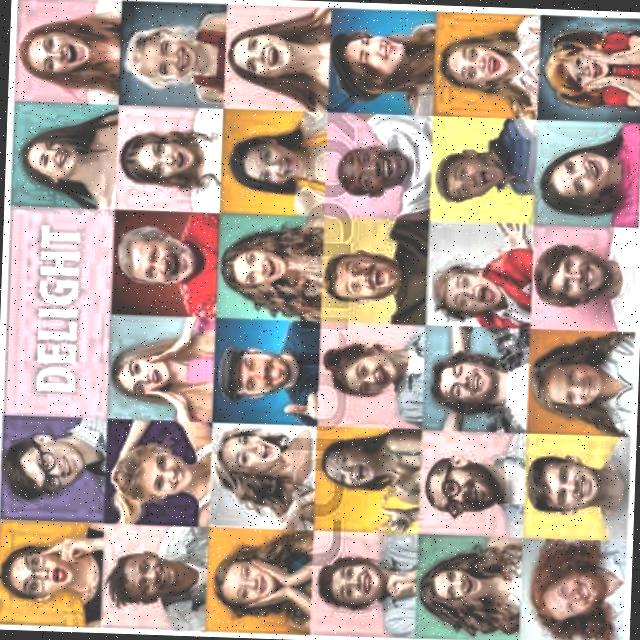happy: (97, 525, 208, 636), (113, 109, 225, 211), (0, 411, 103, 521), (8, 109, 120, 208), (103, 207, 215, 306), (436, 5, 538, 111), (122, 2, 226, 105), (520, 532, 613, 640), (110, 319, 214, 415), (343, 5, 431, 111), (106, 424, 207, 516), (223, 217, 315, 315), (545, 21, 640, 113), (312, 432, 401, 528), (318, 226, 405, 324), (313, 322, 400, 420), (436, 239, 510, 351), (323, 118, 404, 219), (230, 5, 313, 101), (311, 534, 389, 633), (526, 329, 612, 418), (225, 115, 306, 208), (217, 426, 296, 521), (529, 235, 618, 319), (521, 445, 613, 526), (537, 134, 616, 227), (422, 438, 497, 529), (216, 326, 291, 404), (213, 547, 293, 617), (424, 549, 494, 626), (427, 343, 499, 417), (439, 135, 508, 207)
surprised: (0, 524, 95, 627)
